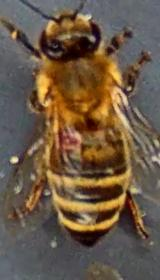varroa_mite: (55, 121, 82, 150)
